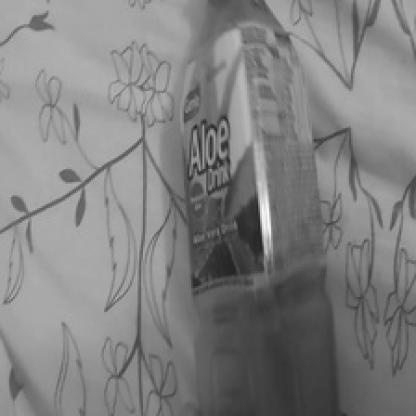plastic_bottles: (168, 0, 362, 416)
